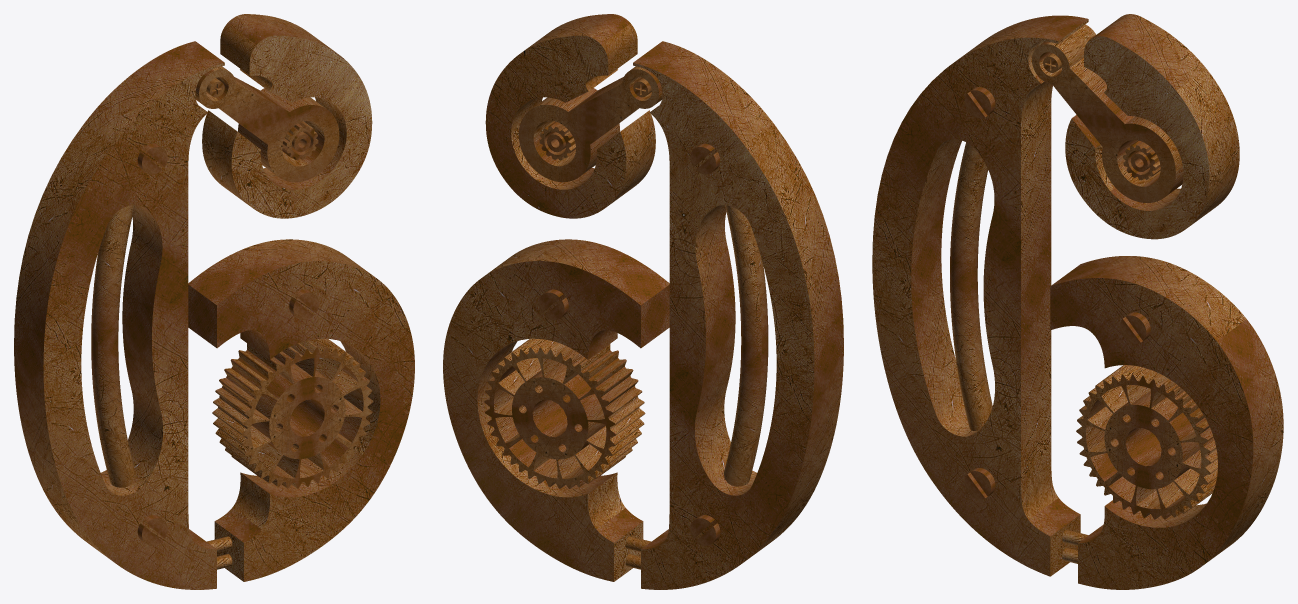
The picture shows the model from 3 angles, left to right: view 1: azimuth 30°, elevation 25°; view 2: azimuth 150°, elevation 25°; view 3: azimuth 330°, elevation 25°; orthographic projection. The views are drawn at different scales.
Visible parts, largest first — view 1: 045, 016, Cogwheel_355, Tube_564, Lever_024, Cogwheel_352, Screw_695, Screw_683, Screw_672; view 2: 045, 016, Cogwheel_355, Tube_564, Lever_024, Cogwheel_352, Screw_695, Screw_683, Screw_672; view 3: 045, 016, Cogwheel_355, Lever_024, Tube_564, Cogwheel_352, Screw_683, Screw_695, Screw_672.
Boxes of the visible parts, x1,y1,x2,y2 form: 045: (14, 41, 414, 589); 016: (202, 14, 372, 218); Cogwheel_355: (212, 338, 373, 488); Tube_564: (91, 205, 135, 487); Lever_024: (195, 66, 339, 182); Cogwheel_352: (282, 121, 318, 160); Screw_695: (137, 143, 167, 174); Screw_683: (137, 515, 167, 545); Screw_672: (289, 289, 318, 320); 045: (443, 41, 843, 589); 016: (485, 14, 655, 218); Cogwheel_355: (484, 338, 645, 488); Tube_564: (723, 205, 768, 486); Lever_024: (518, 66, 662, 182); Cogwheel_352: (539, 121, 575, 160); Screw_695: (690, 143, 720, 174); Screw_683: (690, 515, 720, 545); Screw_672: (539, 289, 568, 320); 045: (872, 15, 1283, 589); 016: (1065, 14, 1239, 239); Cogwheel_355: (1076, 365, 1217, 519); Lever_024: (1032, 24, 1183, 202); Tube_564: (950, 142, 992, 430); Cogwheel_352: (1123, 140, 1160, 180); Screw_683: (964, 468, 995, 499); Screw_695: (964, 87, 995, 118); Screw_672: (1120, 312, 1150, 343).
Bounding box in the file's own units: 72.76 × 101 × 12.89.
Materials: 1 (1 with a texture image).
